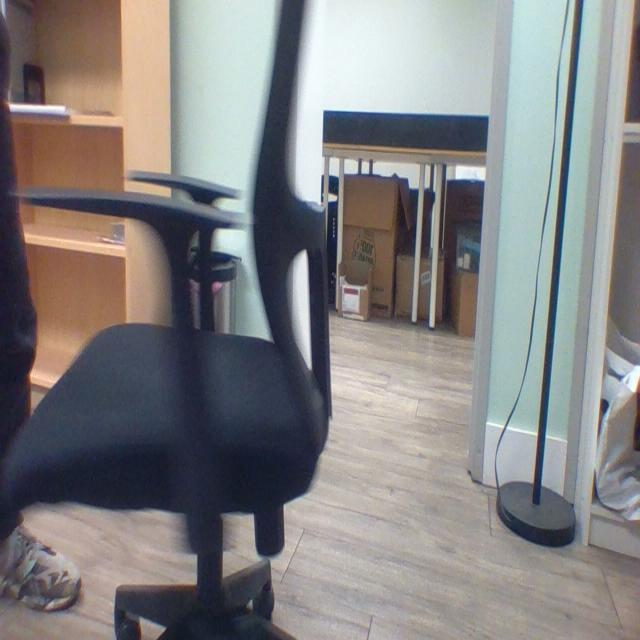chair: (0, 0, 339, 640)
